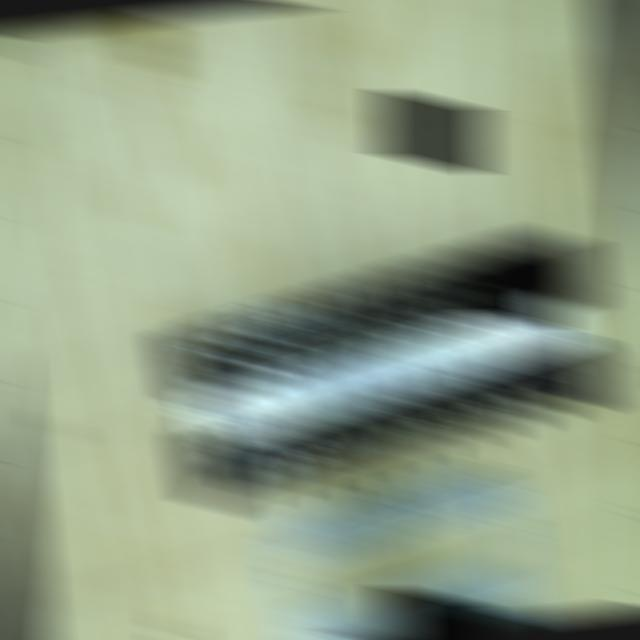Phillips_Block: (149, 229, 629, 513)
